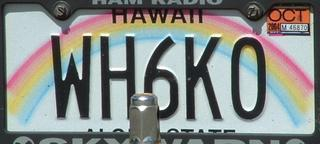placa de veiculo: (0, 0, 316, 142)
